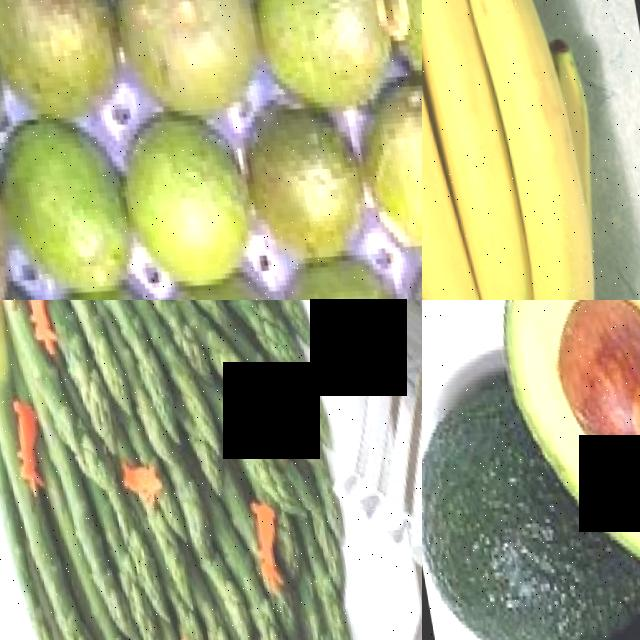asparagus: (21, 300, 351, 640)
avocado: (471, 300, 640, 616), (422, 339, 552, 640), (110, 104, 261, 293), (235, 89, 376, 282), (0, 115, 141, 300), (93, 0, 270, 133), (241, 0, 399, 126), (0, 0, 132, 146), (354, 93, 422, 255), (265, 247, 422, 300), (0, 123, 20, 300)
banana: (422, 0, 640, 300)
